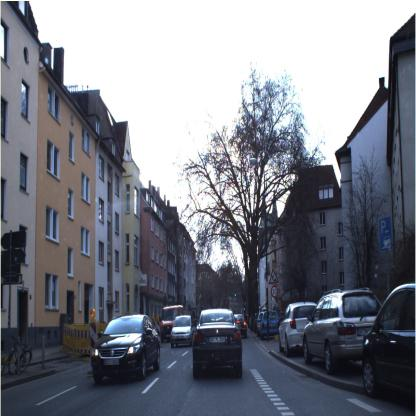CONSTRUCTION: (268, 268, 279, 285)
speed limit 30: (270, 285, 278, 298)
